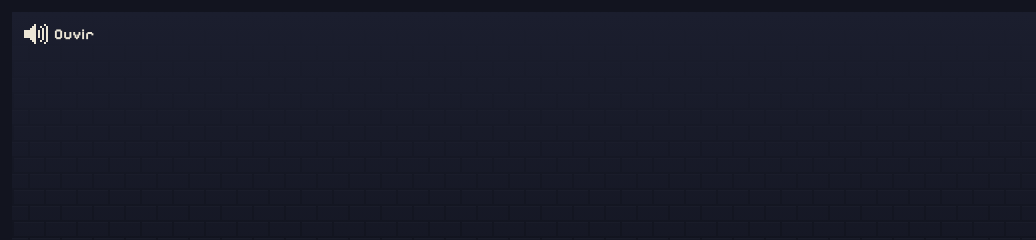
it: one sound at a time › the button goes back to "Ouvir" when its text changes
Later steps or results of the test are not shown.
Click the button with aria-label "Ouvir a frente".
click(59, 34)  # box [12,12,107,56]
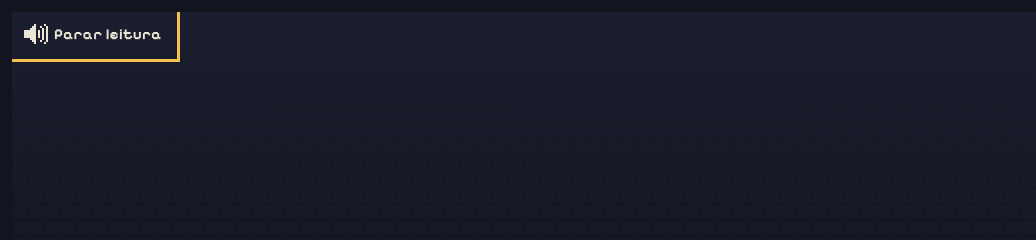
Expected: the button with aria-label "Parar a leitura" is shown, [12,12,174,56]
